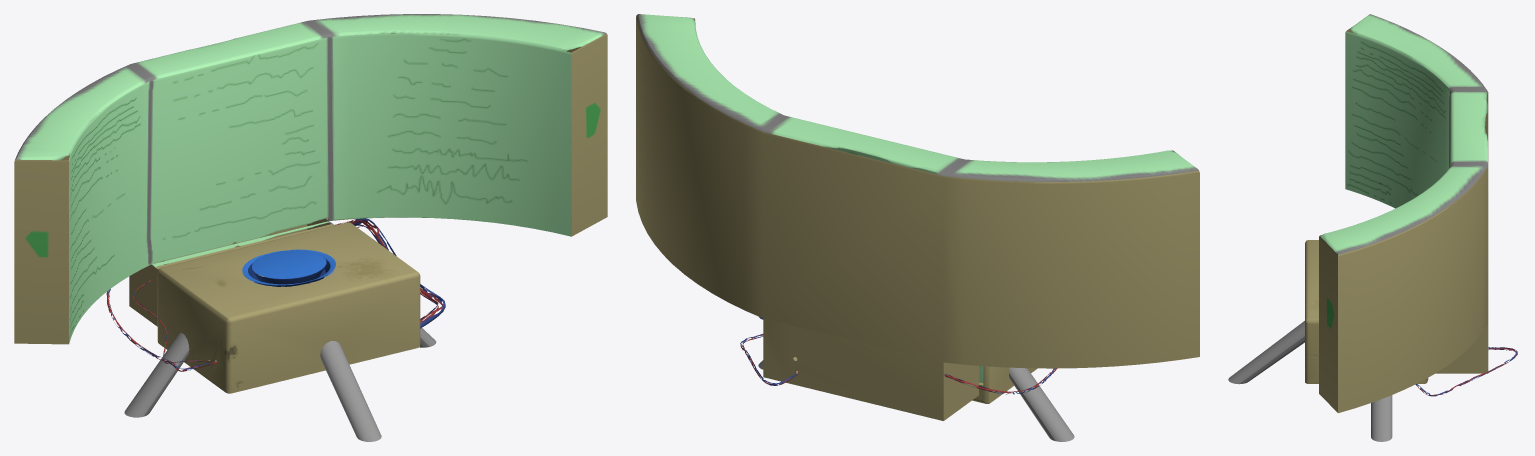
The model's file is machine (1).fbx.
3 views of the same model, side by side, from view 1: azimuth 30°, elevation 25°; view 2: azimuth 150°, elevation 25°; view 3: azimuth 270°, elevation 25° (orthographic). The views are drawn at different scales.
Visible parts, largest first — view 1: Cube.001; view 2: Cube.001; view 3: Cube.001.
Part boxes in pixels (<box>): Cube.001: <box>14,14,607,441</box>; Cube.001: <box>636,14,1199,441</box>; Cube.001: <box>1228,14,1517,441</box>.
Bounding box in the file's own units: 904 × 437 × 464.
